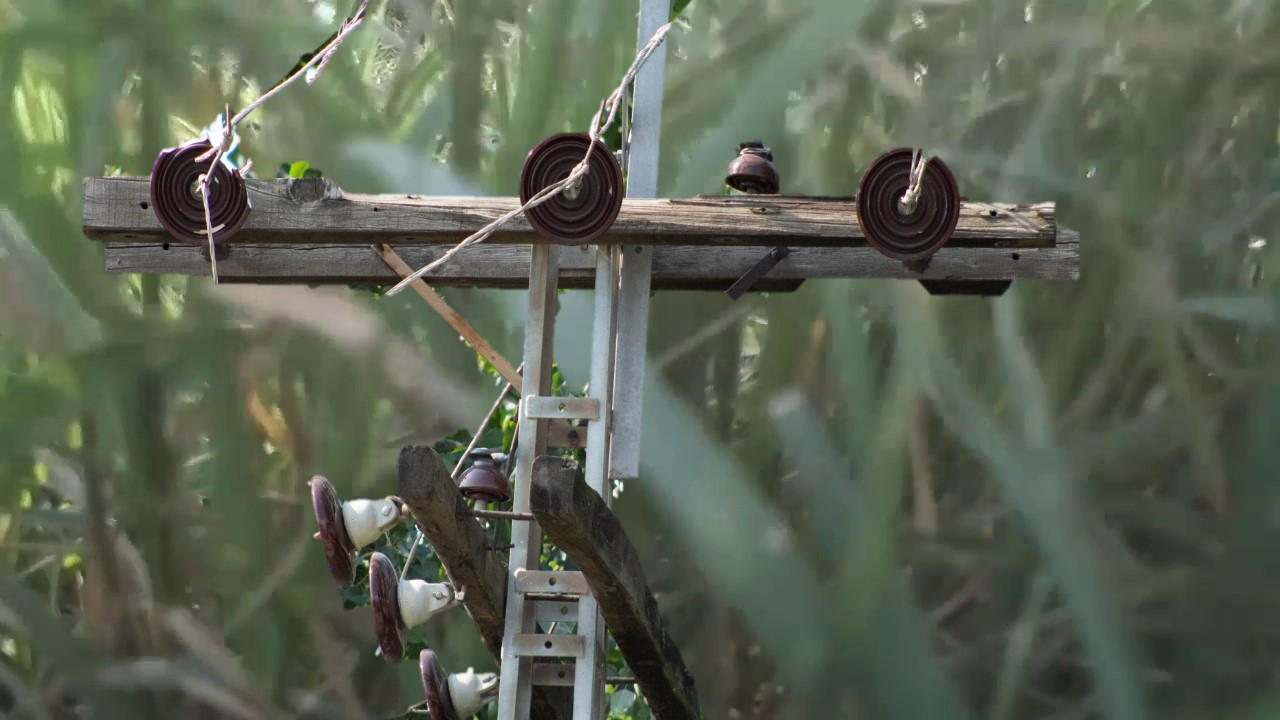defect_disc: (145, 130, 258, 248)
insulator_disc: (851, 141, 960, 269), (516, 132, 626, 252), (308, 465, 364, 597), (365, 538, 421, 665), (408, 636, 490, 704)
insulator_pin: (450, 438, 515, 508), (720, 130, 785, 194)
